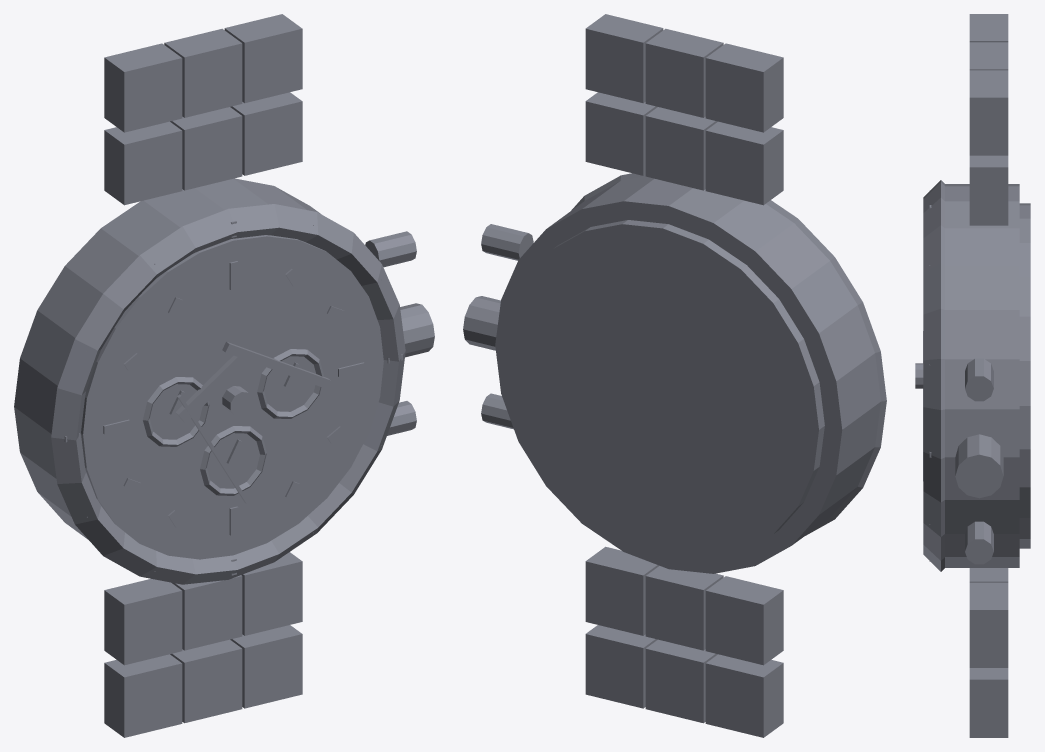
Rendered from rlj_daytona.fbx.
3 renders of one model, left to right at view 1: azimuth 30°, elevation 25°; view 2: azimuth 150°, elevation 25°; view 3: azimuth 270°, elevation 25°, orthographic. The views are drawn at different scales.
Visible parts, largest first — view 1: Esfera__metal_oro_cepillado, Caja__metal_oro_pulido, Caja__esmalte_negro, Caja__metal_oro_cepillado, Esfera__esmalte_negro, Manecillas__esmalte_negro; view 2: Caja__metal_oro_pulido, Caja__metal_oro_cepillado, Caja__esmalte_negro; view 3: Caja__metal_oro_pulido, Caja__esmalte_negro, Caja__metal_oro_cepillado, Manecillas__esmalte_negro.
Part boxes in pixels (x1,y1,x2,y2): Esfera__metal_oro_cepillado: (81,235,383,559); Caja__metal_oro_pulido: (14,14,434,737); Caja__esmalte_negro: (51,204,405,584); Caja__metal_oro_cepillado: (164,28,242,723); Esfera__esmalte_negro: (103,261,364,535); Manecillas__esmalte_negro: (175,341,330,503); Caja__metal_oro_pulido: (463,14,880,737); Caja__metal_oro_cepillado: (645,28,723,723); Caja__esmalte_negro: (571,173,886,535); Caja__metal_oro_pulido: (945,14,1030,737); Caja__esmalte_negro: (923,180,944,571); Caja__metal_oro_cepillado: (969,42,1008,582); Manecillas__esmalte_negro: (915,331,923,480).
Bounding box in the file's own units: 135 × 220 × 36.
